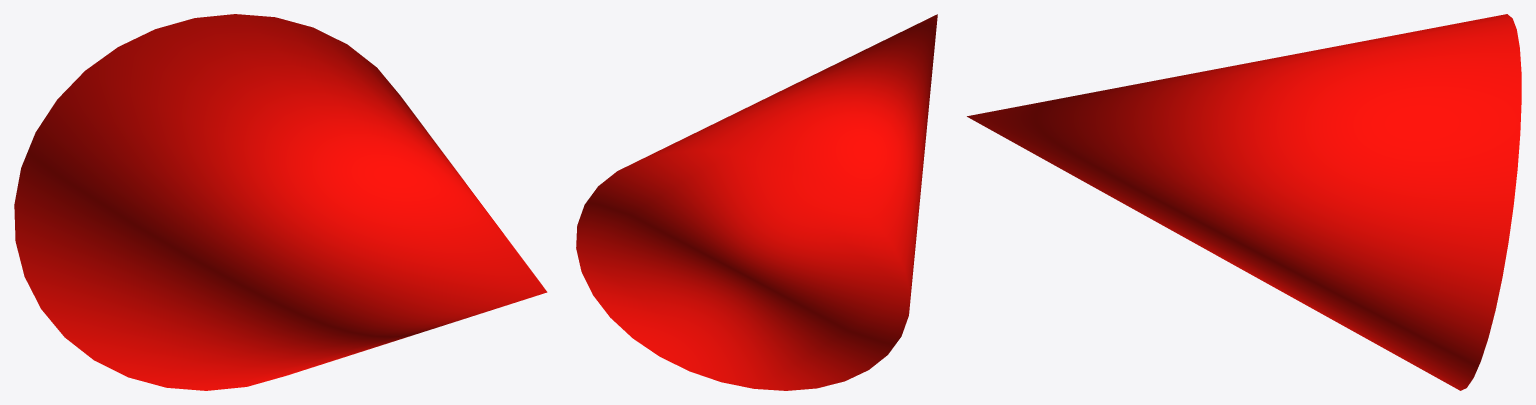
Rendered from zone3-rhino-red.gltf.
The picture shows the model from 3 angles, left to right: view 1: azimuth 30°, elevation 25°; view 2: azimuth 150°, elevation 25°; view 3: azimuth 270°, elevation 25°; orthographic projection. The views are drawn at different scales.
Visible parts, largest first — view 1: Corne; view 2: Corne; view 3: Corne.
Part boxes in pixels (<box>): Corne: <box>14,14,547,390</box>; Corne: <box>576,14,937,390</box>; Corne: <box>967,14,1521,390</box>.
Size of the model in its own units: 0.7107 by 0.5485 by 0.9062.
